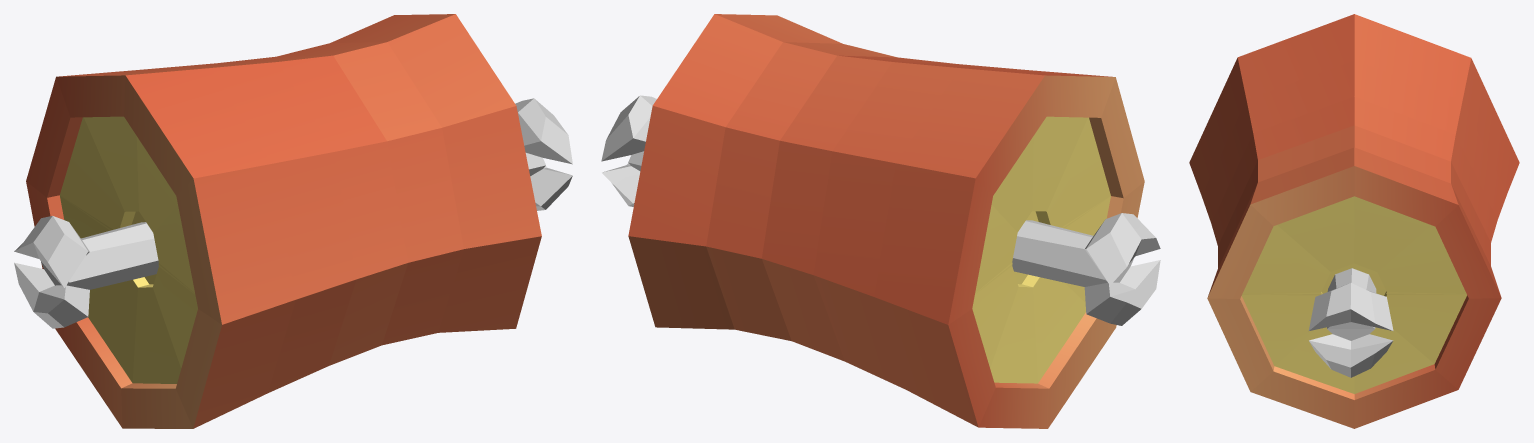
The model's file is Meat2.fbx.
3 views of the same model, side by side, from view 1: azimuth 30°, elevation 25°; view 2: azimuth 150°, elevation 25°; view 3: azimuth 270°, elevation 25° (orthographic). The views are drawn at different scales.
Parts seen in each view (by area): view 1: Body, Bone.002, Bone.001; view 2: Body, Bone.002, Bone.001; view 3: Body, Bone.001.
Part boxes in pixels (bbox=[...]): Body: bbox=[26, 14, 541, 428]; Bone.002: bbox=[14, 216, 158, 328]; Bone.001: bbox=[515, 98, 572, 210]; Body: bbox=[628, 14, 1144, 428]; Bone.002: bbox=[1012, 213, 1160, 325]; Bone.001: bbox=[601, 95, 656, 206]; Body: bbox=[1189, 14, 1519, 428]; Bone.001: bbox=[1308, 268, 1393, 377].
Bounding box in the file's own units: 0.5083 × 0.3289 × 0.3318.
1 material, 1 textured.
